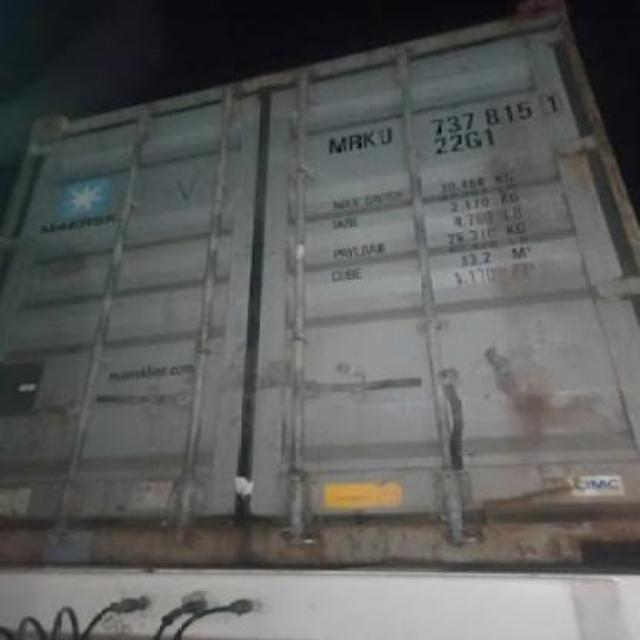1: (542, 94, 560, 112), (502, 104, 516, 125)
3: (444, 116, 460, 134)
5: (516, 100, 534, 120)
7: (460, 113, 478, 129), (431, 117, 444, 135)
8: (484, 106, 502, 126)
K: (362, 130, 378, 148)
M: (324, 136, 348, 154)
R: (346, 133, 362, 153)
U: (378, 125, 394, 145)
